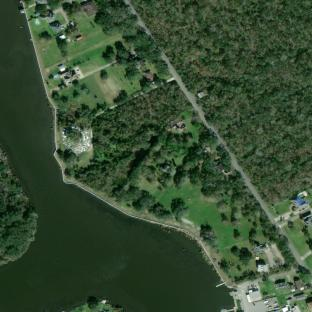Floresta: (132, 0, 312, 204), (68, 83, 214, 210), (94, 0, 168, 76), (232, 180, 295, 264), (0, 147, 38, 266), (201, 156, 230, 197), (115, 41, 139, 79)
